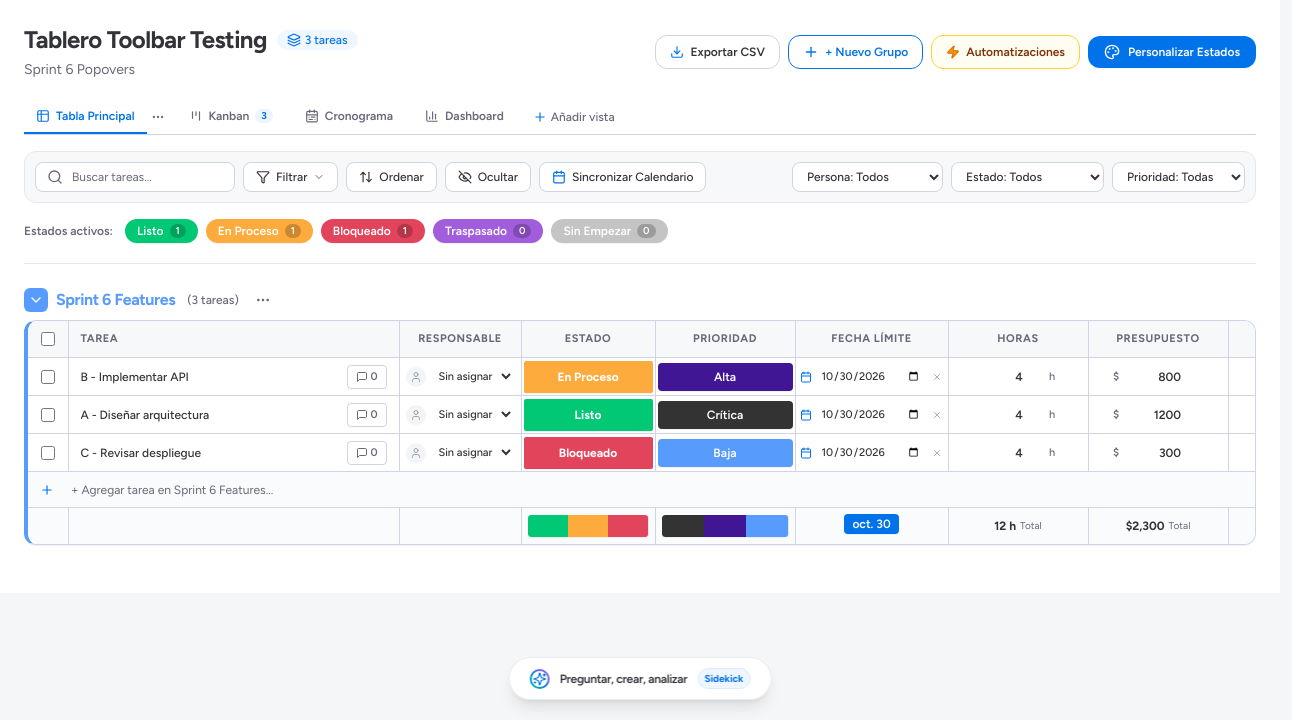
BoardToolbarPopovers — Sprint 6: Toolbar, Filtros Rápidos, Ocultar y Ordenamiento 1:1 Monday.com › 1. Popover de Filtros Rápidos: botón Filtrar abre popover horizontal con conteos y filtra reactivamente
Check: the text "B - Implementar API" is shown, box [80, 368, 189, 384]
Check: the text "A - Diseñar arquitectura" is shown, box [80, 406, 209, 422]
Clic en botón "Filtrar" abre el popover
Click the button with test id "toolbar-filter-btn": coordinates (291, 177) [243, 162, 338, 192]
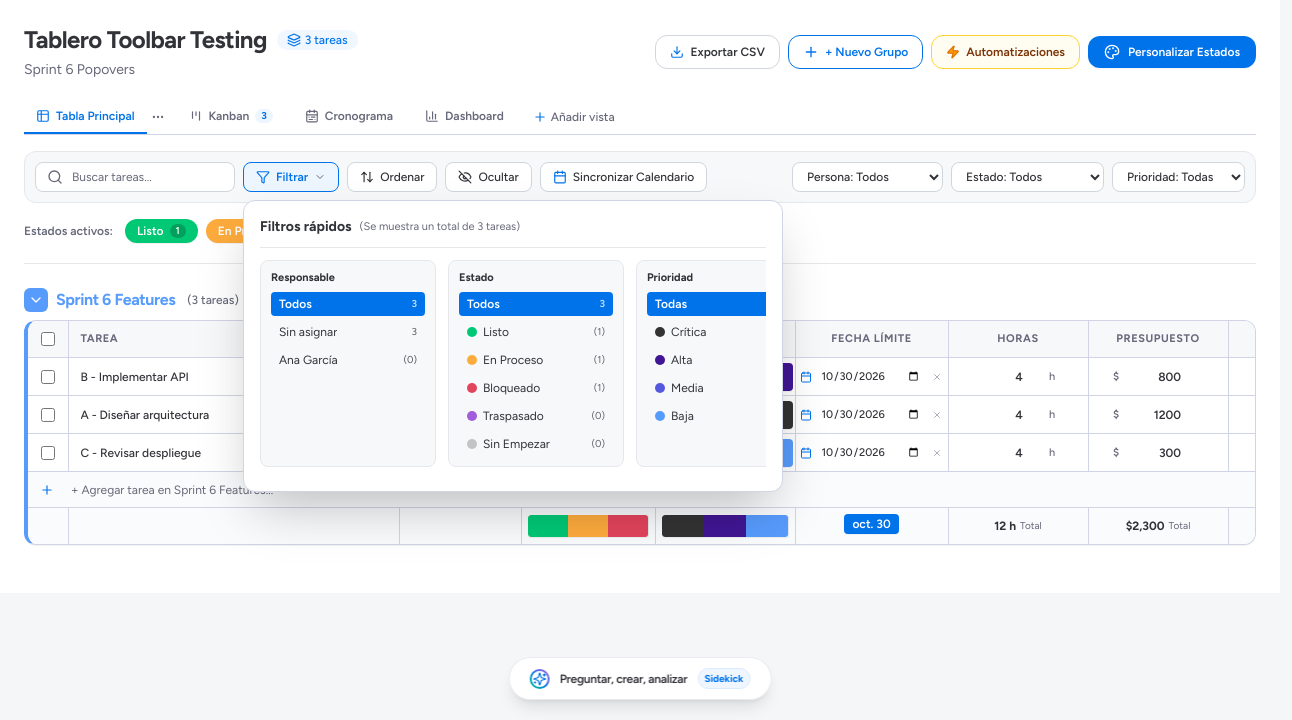
Check: the element with test id "quick-filters-popover" is shown, box [243, 200, 783, 492]
Check: the text "(Se muestra un total de 3 tareas)" is shown, box [360, 220, 520, 234]
Clic en chip de estado "Listo" filtra solo tareas terminadas
Click the button with test id "quick-filter-status-done": coordinates (536, 332) [459, 320, 613, 344]
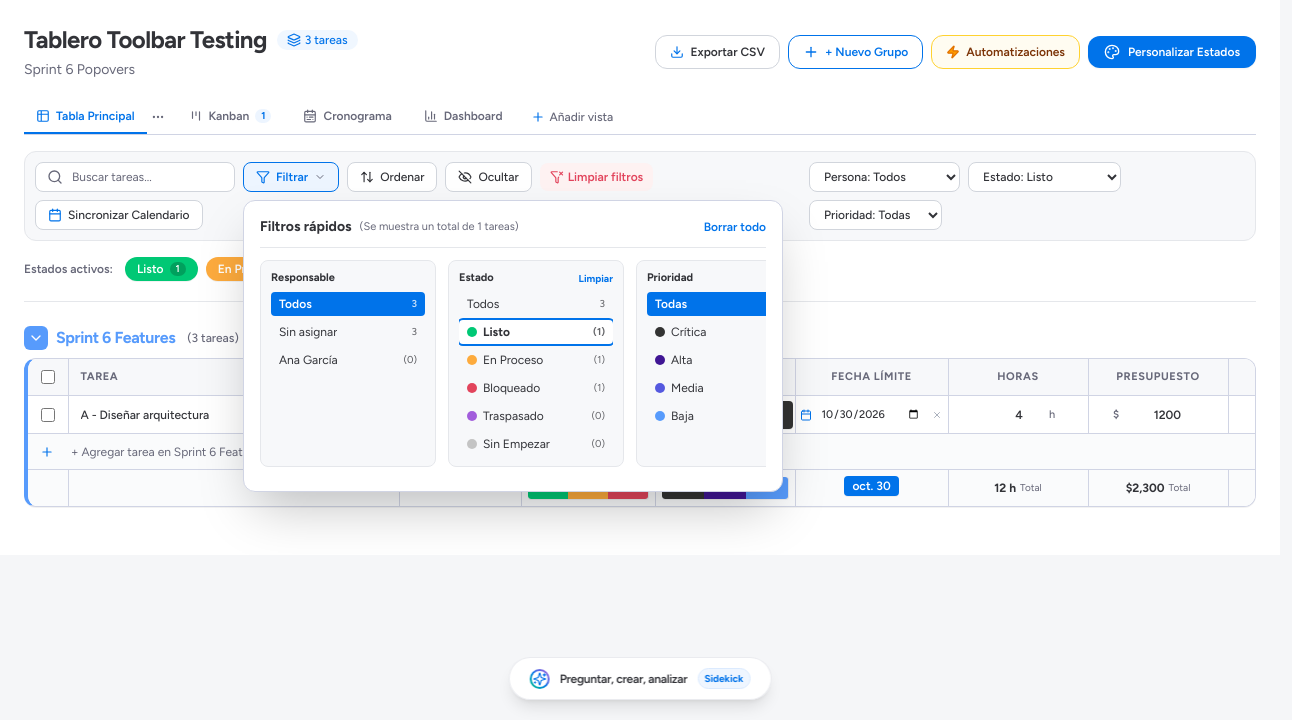
Check: the text "A - Diseñar arquitectura" is shown, box [80, 406, 209, 422]
Check: the text "B - Implementar API" is gone
Check: the text "C - Revisar despliegue" is gone
Click the button with test id "quick-filter-clear-all": coordinates (735, 227) [704, 219, 766, 235]
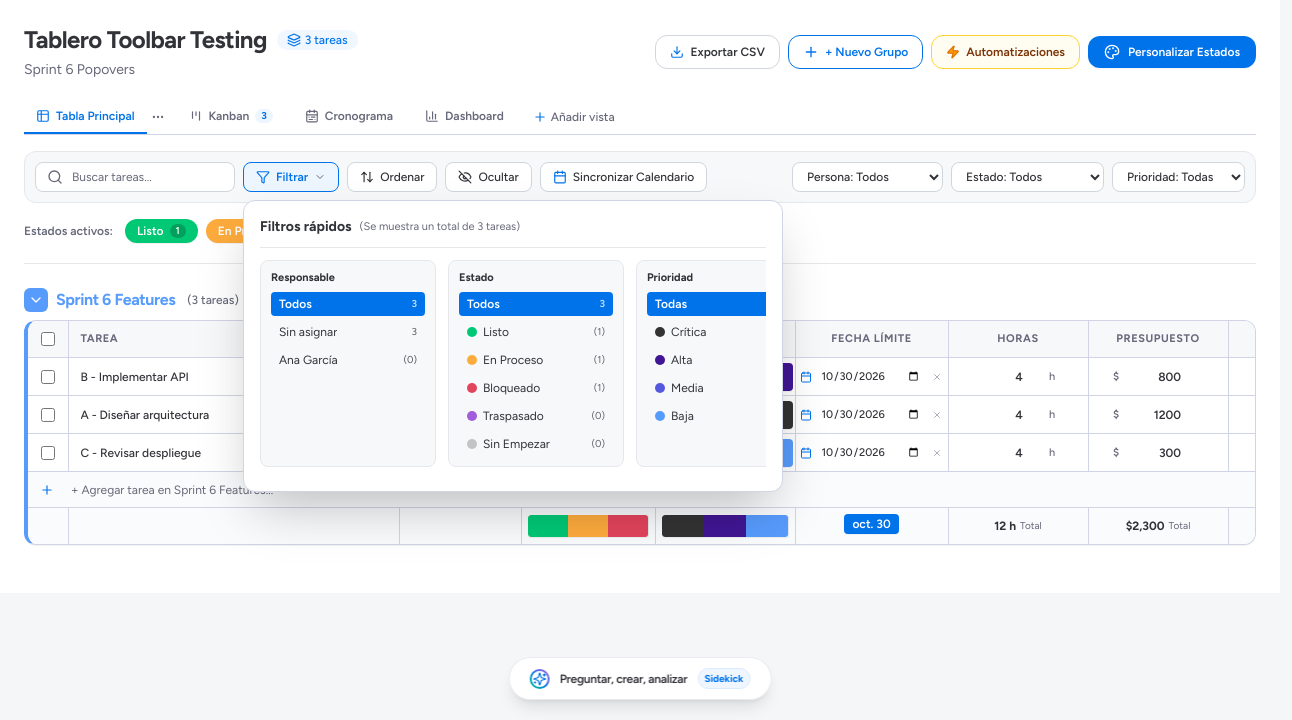
Check: the text "A - Diseñar arquitectura" is shown, box [80, 406, 209, 422]
Check: the text "B - Implementar API" is shown, box [80, 368, 189, 384]
Check: the text "C - Revisar despliegue" is shown, box [80, 444, 201, 460]
